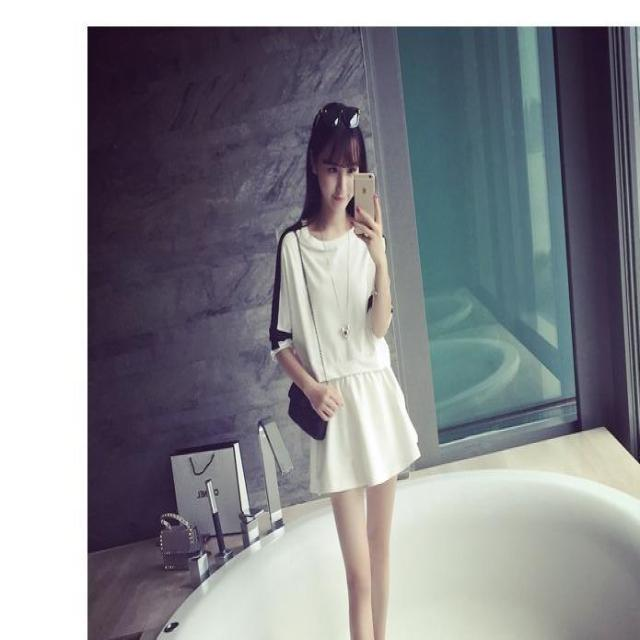long sleeve top: (270, 222, 392, 385)
skirt: (311, 356, 422, 495)
